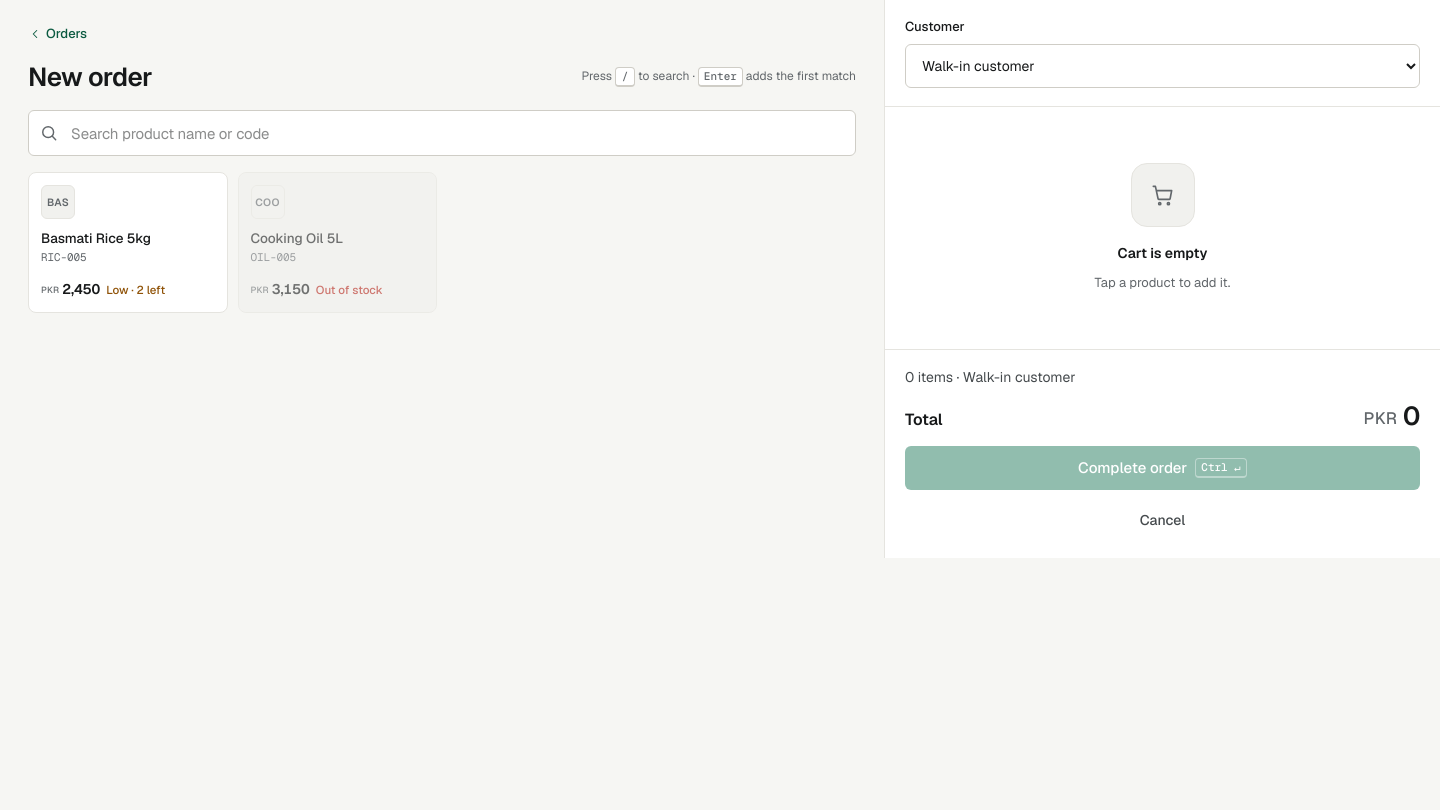
Test: Create order POS (R6) › adds products up to available stock and blocks out-of-stock products
This screenshot has width=1440, height=810.
Check: the button "COO Cooking Oil 5L OIL-005 PKR3,150 Out of stock" is disabled, box [238,172,437,313]
Check: the button "Complete order Ctrl ↵" is disabled, box [905,446,1420,490]
Click the button with aria-label "Basmati Rice 5kg, PKR 2,450, 2 in stock" at (128, 242), box [28,172,228,313]
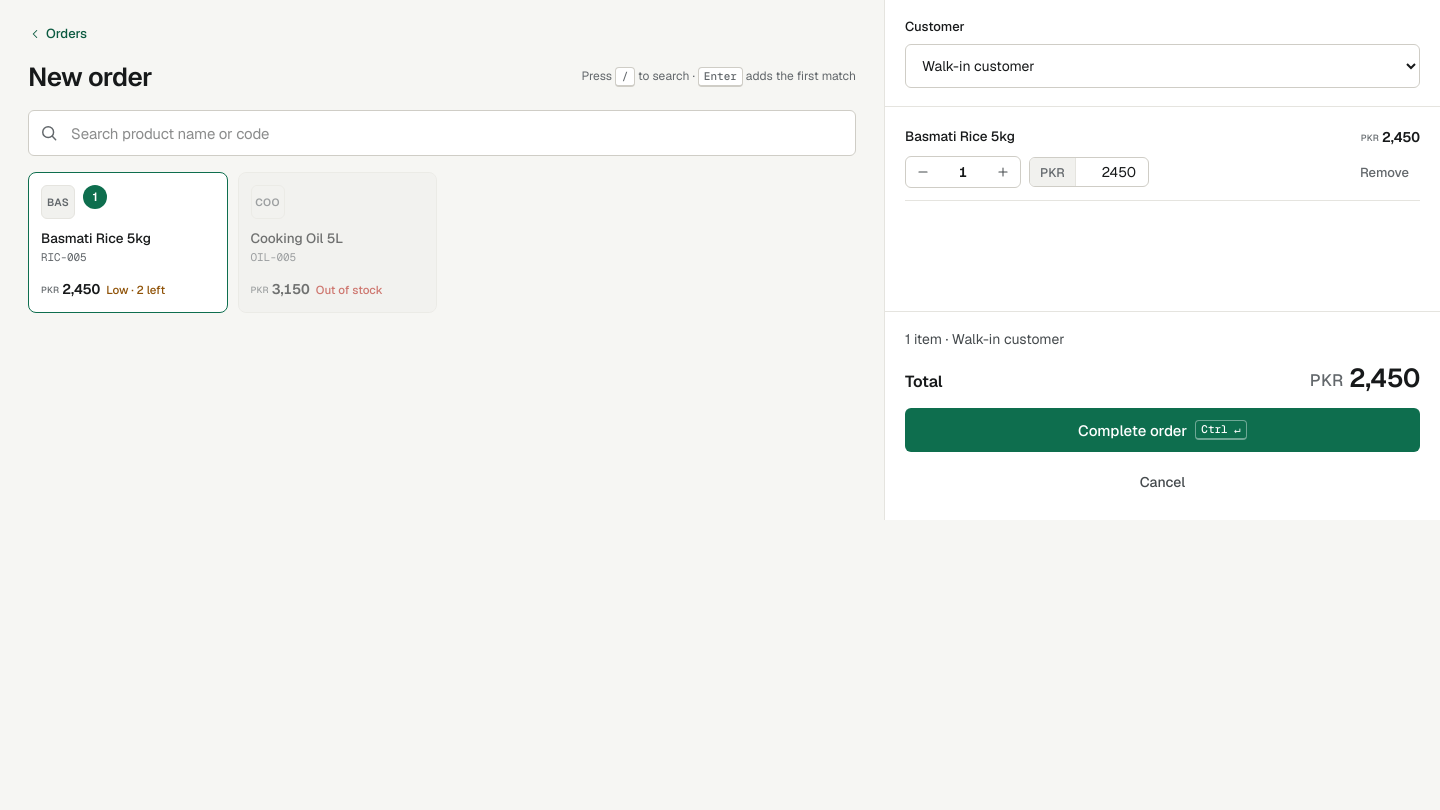
Click the button with aria-label "Basmati Rice 5kg, PKR 2,450, 2 in stock" at (128, 242), box [28,172,228,313]
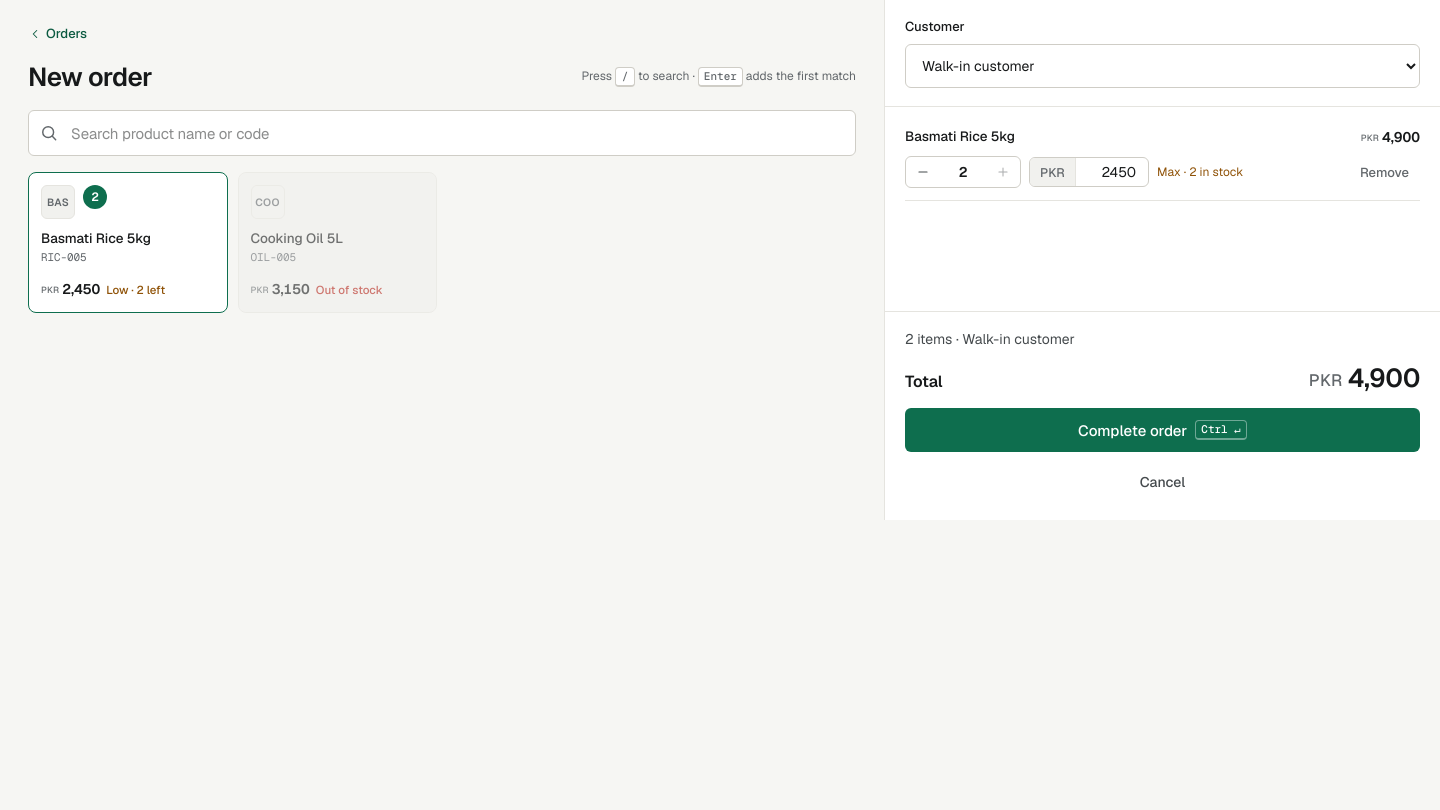
Check: the button named "Basmati Rice 5kg, PKR 2,450, 2 in stock" is disabled, box [28,172,228,313]
Check: the text named "Quantity of Basmati Rice 5kg" reads "2", box [959,162,967,180]
Check: the button named "Increase Basmati Rice 5kg" is disabled, box [986,157,1020,187]
